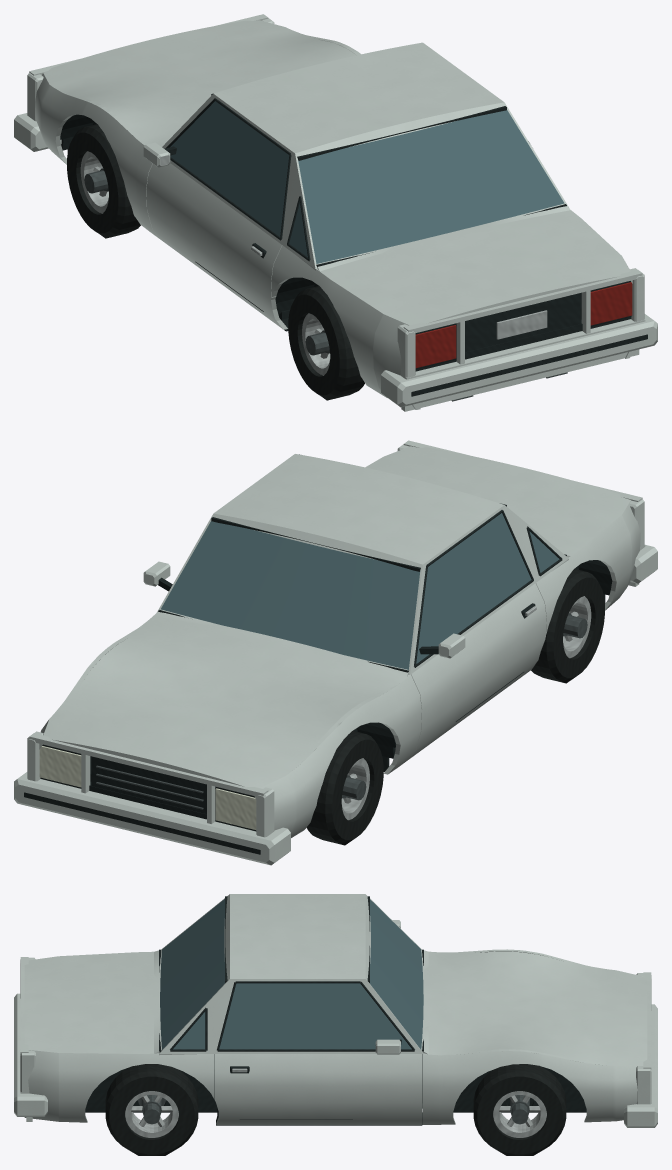
3 renders of one model, top to bottom at view 1: azimuth 30°, elevation 25°; view 2: azimuth 150°, elevation 25°; view 3: azimuth 270°, elevation 25°, orthographic. The views are drawn at different scales.
Parts seen in each view (by area): view 1: B028-05_body_shell_paint.001, B028-05_glazing_glass.001, B028-05_roof_paint, B028-05_body_shell_paint, B028-05_door_leaf_paint_front_door-1, B028-05_glazing_glass_front_door-1, B028-05_bumper_paint, B028-05_wheel_rubber_P-0.7900_-1.3000_0.3300, B028-05_wheel_rubber_P-0.7900_1.3000_0.3300, B028-05_body_shell_dark, B028-05_lamps_red, B028-05_trim_dark.001 (+5 smaller); view 2: B028-05_body_shell_paint.001, B028-05_glazing_glass.001, B028-05_roof_paint, B028-05_body_shell_paint, B028-05_door_leaf_paint_front_door-1, B028-05_glazing_glass_front_door-1, B028-05_bumper_paint, B028-05_wheel_rubber_P-0.7900_1.3000_0.3300, B028-05_wheel_rubber_P-0.7900_-1.3000_0.3300, B028-05_body_shell_dark, B028-05_lamps_lamp, B028-05_trim_dark.001 (+6 smaller); view 3: B028-05_body_shell_paint.001, B028-05_door_leaf_paint_front_door1, B028-05_body_shell_paint, B028-05_roof_paint, B028-05_glazing_glass.001, B028-05_glazing_glass_front_door1, B028-05_wheel_rubber_P0.7900_1.3000_0.3300, B028-05_wheel_rubber_P0.7900_-1.3000_0.3300, B028-05_bumper_paint, B028-05_wheelwell_dark, B028-05_wheel_alloy_P0.7900_-1.3000_0.3300, B028-05_wheel_alloy_P0.7900_1.3000_0.3300 (+3 smaller).
Boxes of the visible parts, x1,y1,x2,y2 form: B028-05_body_shell_paint.001: [27, 14, 645, 411]; B028-05_glazing_glass.001: [298, 110, 564, 263]; B028-05_roof_paint: [214, 42, 503, 153]; B028-05_body_shell_paint: [35, 34, 633, 409]; B028-05_door_leaf_paint_front_door-1: [146, 163, 287, 329]; B028-05_glazing_glass_front_door-1: [170, 101, 289, 236]; B028-05_bumper_paint: [14, 113, 657, 407]; B028-05_wheel_rubber_P-0.7900_-1.3000_0.3300: [288, 286, 364, 400]; B028-05_wheel_rubber_P-0.7900_1.3000_0.3300: [67, 124, 140, 238]; B028-05_body_shell_dark: [415, 293, 631, 371]; B028-05_lamps_red: [415, 282, 632, 368]; B028-05_trim_dark.001: [164, 93, 647, 396]; B028-05_body_shell_paint.001: [27, 440, 645, 837]; B028-05_glazing_glass.001: [161, 521, 420, 669]; B028-05_roof_paint: [213, 454, 503, 564]; B028-05_body_shell_paint: [39, 500, 640, 837]; B028-05_door_leaf_paint_front_door-1: [408, 583, 546, 759]; B028-05_glazing_glass_front_door-1: [416, 513, 531, 663]; B028-05_bumper_paint: [14, 544, 657, 865]; B028-05_wheel_rubber_P-0.7900_1.3000_0.3300: [306, 731, 383, 845]; B028-05_wheel_rubber_P-0.7900_-1.3000_0.3300: [531, 569, 604, 683]; B028-05_body_shell_dark: [42, 756, 255, 831]; B028-05_lamps_lamp: [39, 746, 256, 829]; B028-05_trim_dark.001: [24, 454, 566, 854]; B028-05_body_shell_paint.001: [20, 894, 651, 1121]; B028-05_door_leaf_paint_front_door1: [214, 1051, 421, 1124]; B028-05_body_shell_paint: [24, 949, 643, 1124]; B028-05_roof_paint: [230, 894, 365, 978]; B028-05_glazing_glass.001: [160, 899, 423, 1049]; B028-05_glazing_glass_front_door1: [219, 983, 411, 1049]; B028-05_wheel_rubber_P0.7900_1.3000_0.3300: [473, 1064, 566, 1155]; B028-05_wheel_rubber_P0.7900_-1.3000_0.3300: [105, 1064, 198, 1155]; B028-05_bumper_paint: [14, 993, 657, 1127]; B028-05_wheelwell_dark: [85, 1065, 586, 1112]; B028-05_wheel_alloy_P0.7900_-1.3000_0.3300: [125, 1091, 178, 1137]; B028-05_wheel_alloy_P0.7900_1.3000_0.3300: [493, 1091, 546, 1137].
Bounding box in the file's own units: 2.09 × 1.33 × 4.55.
9 materials, 9 textured.
